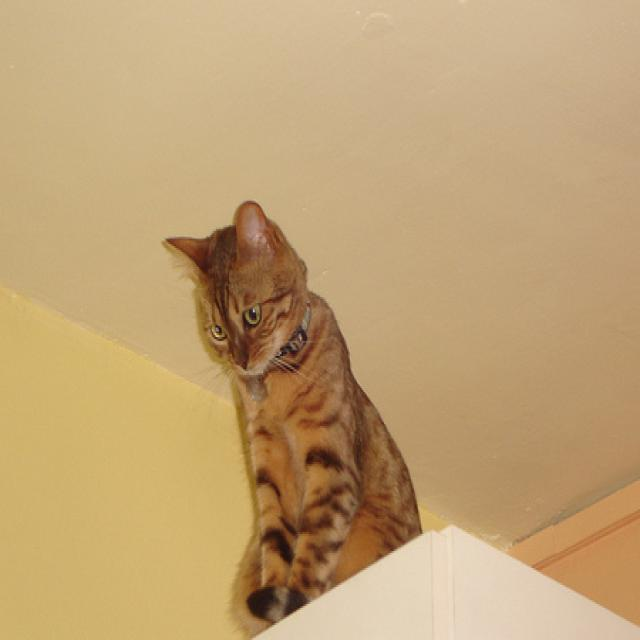Bengal: (161, 187, 435, 640)
